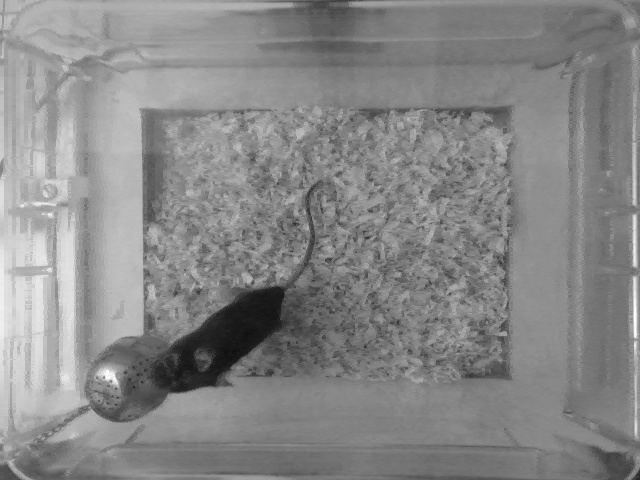mice: (152, 173, 330, 397)
